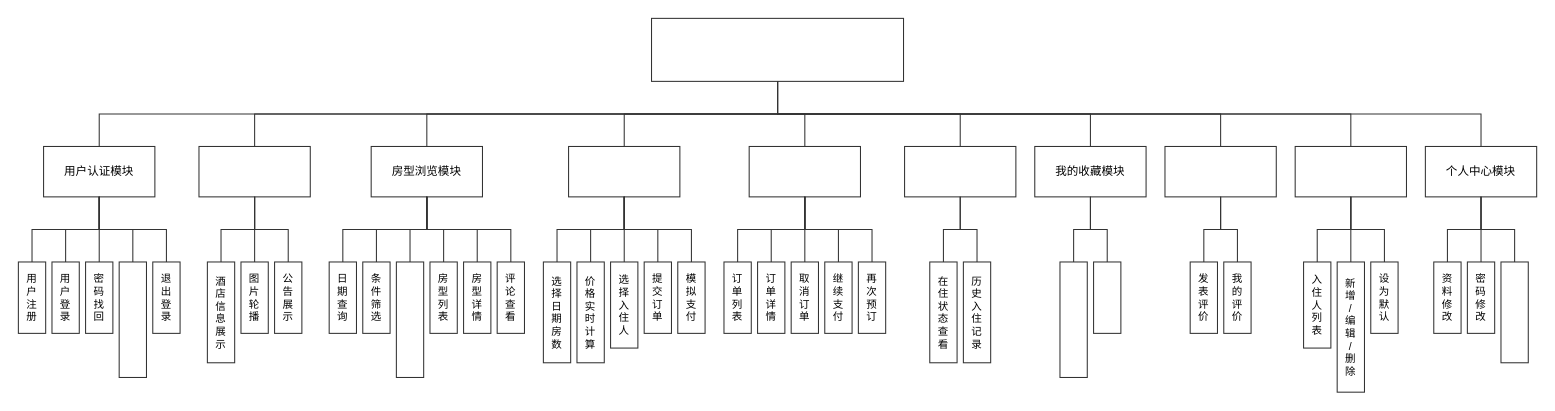
Image size: 1555x411. Some labels were removed from this diagram. The centre of each missing label's shape, as x and y in pixels:
"T o k e n 刷 新" goes at (x=132, y=319).
"价 格 / 销 量 排 序" goes at (x=409, y=319).
"入住记录模块" goes at (x=960, y=171).
"在线预订模块" goes at (x=624, y=171).
"常用入住人模块" goes at (x=1350, y=171).
"收 藏 / 取 消 收 藏" goes at (x=1073, y=319).
"收 藏 列 表" goes at (x=1107, y=297).
"订 单 快 捷 入 口" goes at (x=1514, y=312).
"订单管理模块" goes at (x=804, y=171).
"评价评论模块" goes at (x=1220, y=171).
"酒店预约管理系统 前台模块" goes at (x=777, y=49).
"酒店首页模块" goes at (x=254, y=171).
